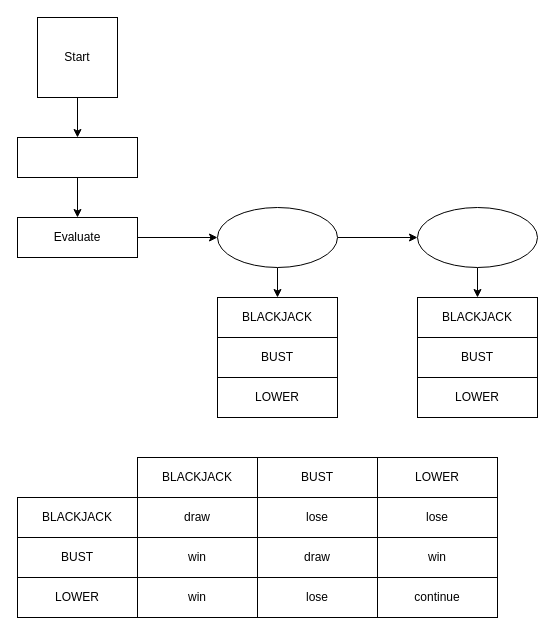
Image size: 555x635. Some labels were removed from this diagram. Each missing label, with the centre of its shape:
"Deal Cards" goes at (x=77, y=157).
"dealer" goes at (x=277, y=237).
"player" goes at (x=477, y=237).
